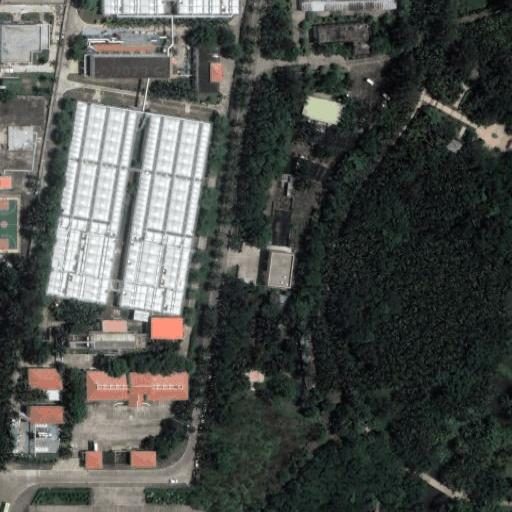building: (41, 99, 218, 316), (77, 368, 177, 397), (265, 170, 297, 249), (93, 55, 173, 80), (1, 25, 49, 63), (0, 122, 35, 174), (302, 93, 346, 125), (296, 0, 398, 12), (200, 47, 222, 94), (268, 253, 293, 289), (148, 317, 185, 340), (11, 362, 48, 385), (19, 418, 44, 450), (317, 29, 368, 44), (14, 399, 50, 419), (91, 331, 128, 349), (132, 451, 156, 467), (86, 451, 104, 469), (128, 333, 146, 349), (68, 336, 91, 348), (101, 321, 128, 331), (0, 172, 14, 190), (132, 308, 149, 322), (115, 450, 128, 464), (33, 385, 46, 395)
